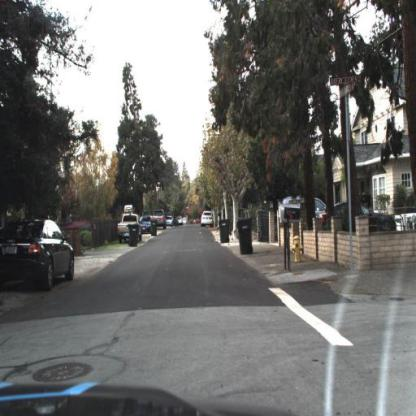car: (1, 217, 92, 291), (325, 203, 400, 230), (276, 194, 326, 222), (118, 211, 142, 244), (140, 212, 156, 239), (142, 212, 157, 235), (153, 206, 166, 231), (201, 210, 216, 231)
